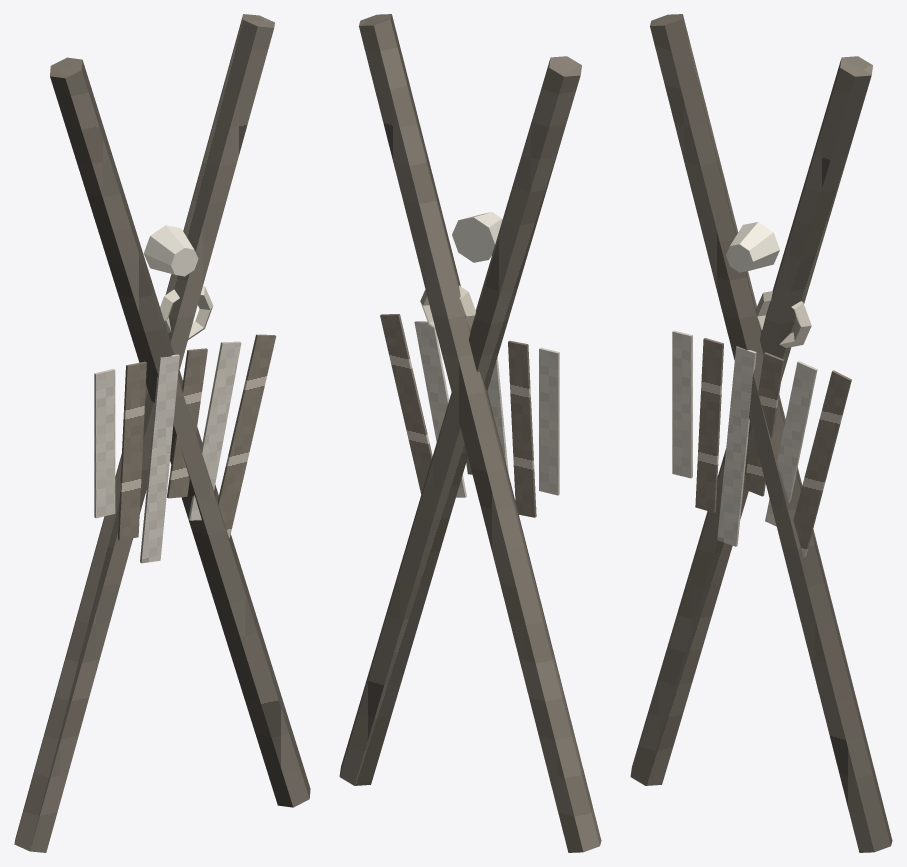
File: sacred_poles.glb
The picture shows the model from 3 angles, left to right: view 1: azimuth 30°, elevation 25°; view 2: azimuth 150°, elevation 25°; view 3: azimuth 330°, elevation 25°; orthographic projection.
Visible parts, largest first — view 1: body; view 2: body; view 3: body.
Boxes of the visible parts, box(x1,y1,x2,y2) form: body: box(14, 14, 310, 852); body: box(339, 14, 601, 852); body: box(630, 14, 892, 852).
Size of the model in its own units: 1.01 by 2.73 by 0.2437.
Materials: 5 (3 with a texture image).
